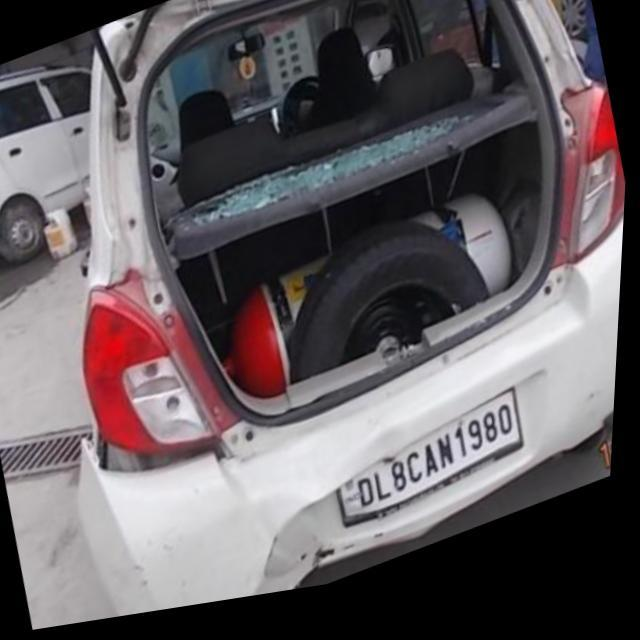dent: (248, 512, 360, 606), (373, 435, 416, 478)
dislocated part: (85, 435, 237, 488)
